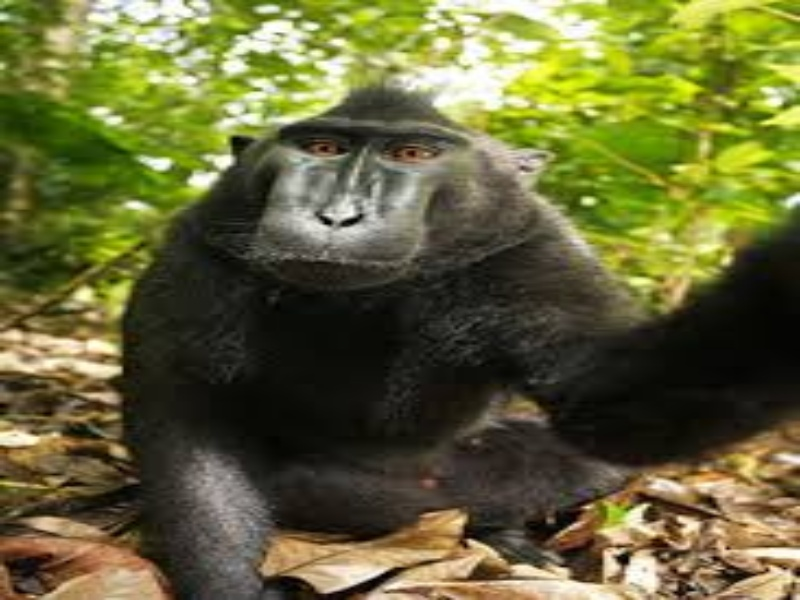monkey: (124, 65, 681, 600)
